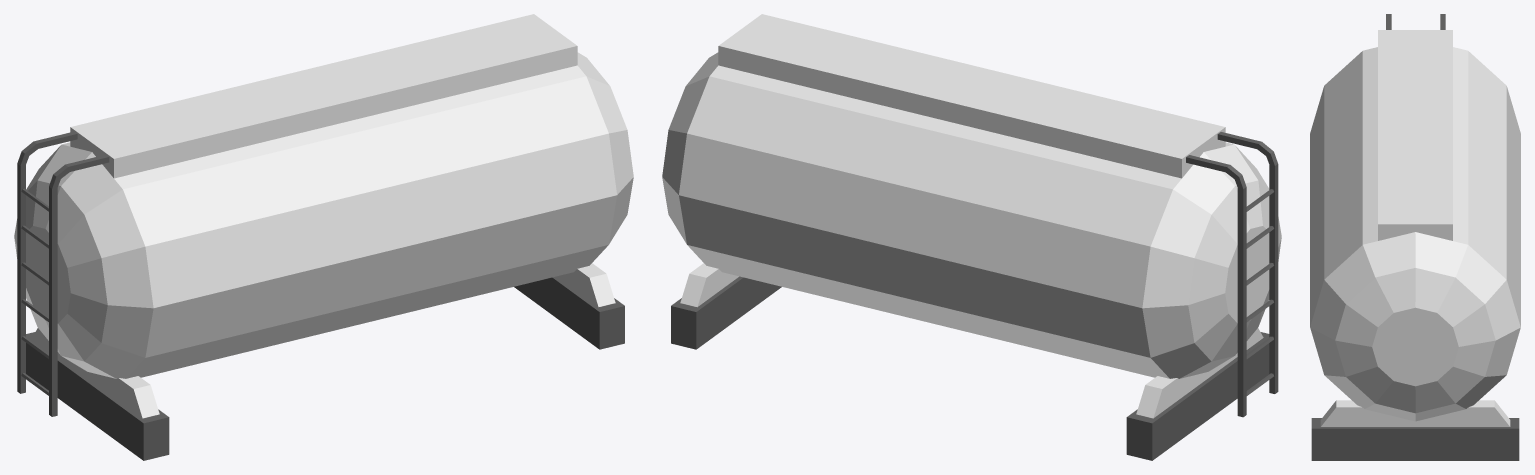
File: LP__Barrel _03.fbx
The picture shows the model from 3 angles, left to right: view 1: azimuth 30°, elevation 25°; view 2: azimuth 150°, elevation 25°; view 3: azimuth 270°, elevation 25°; orthographic projection. The views are drawn at different scales.
Parts seen in each view (by area): view 1: LP__Barrel _03; view 2: LP__Barrel _03; view 3: LP__Barrel _03.
Boxes of the visible parts, <box> form: LP__Barrel _03: <box>14,14,633,460</box>; LP__Barrel _03: <box>662,14,1281,460</box>; LP__Barrel _03: <box>1310,14,1520,460</box>.
Bounding box in the file's own units: 6.23 × 2.85 × 2.34.
